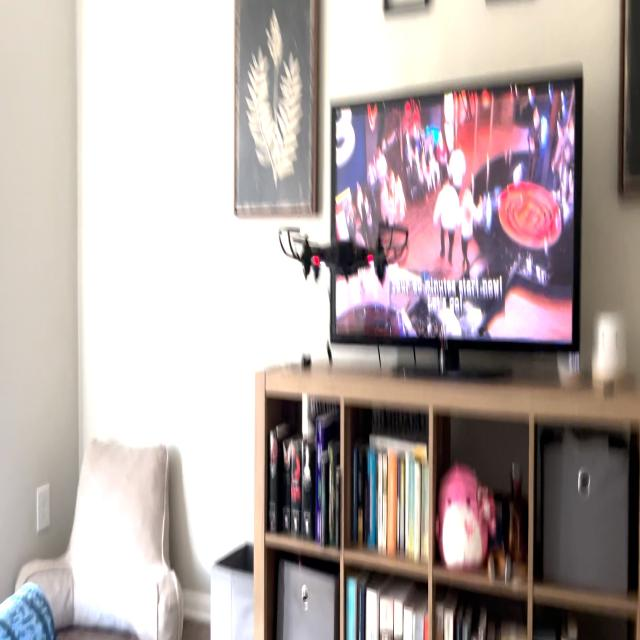drone: (267, 209, 417, 287)
